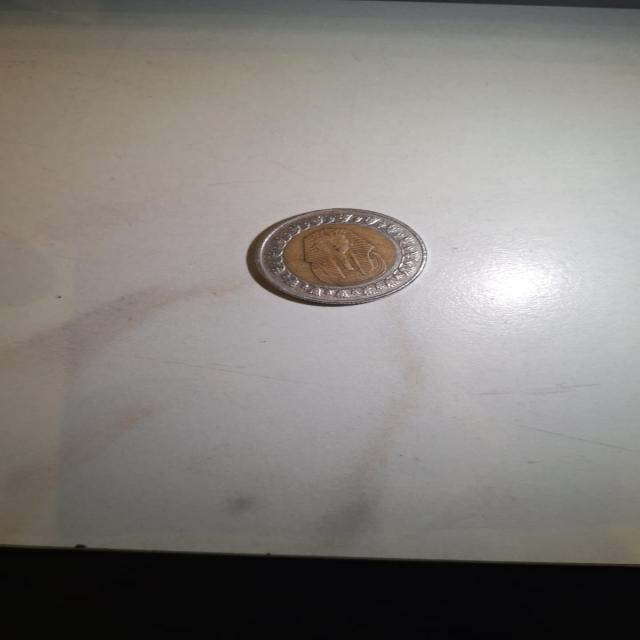One Pound: (233, 207, 443, 307)
